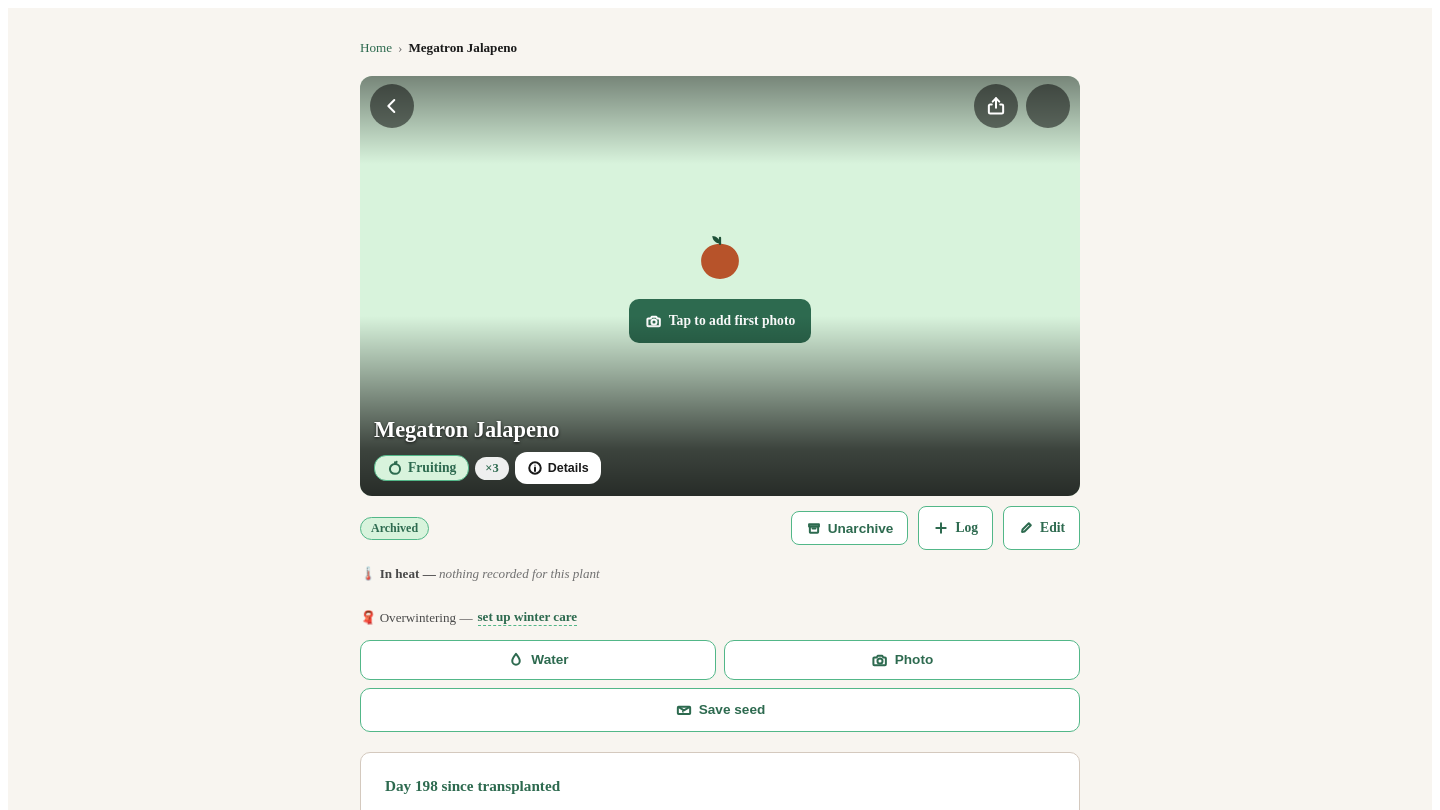
Test: PlantingDetail — V3-ARCHIVE-001 archived restore path › archived planting shows the Archived badge + Unarchive, and Unarchive PATCHes /archive {archived:false}
This screenshot has width=1440, height=810.
Expected: the heading "Megatron Jalapeno" is shown, x1=374 y1=417 x2=560 y2=442
Expected: the text "Archived" is shown, x1=360 y1=516 x2=429 y2=540
Click the button with aria-label "Unarchive this planting".
click(850, 528)  # box x1=791 y1=511 x2=908 y2=545
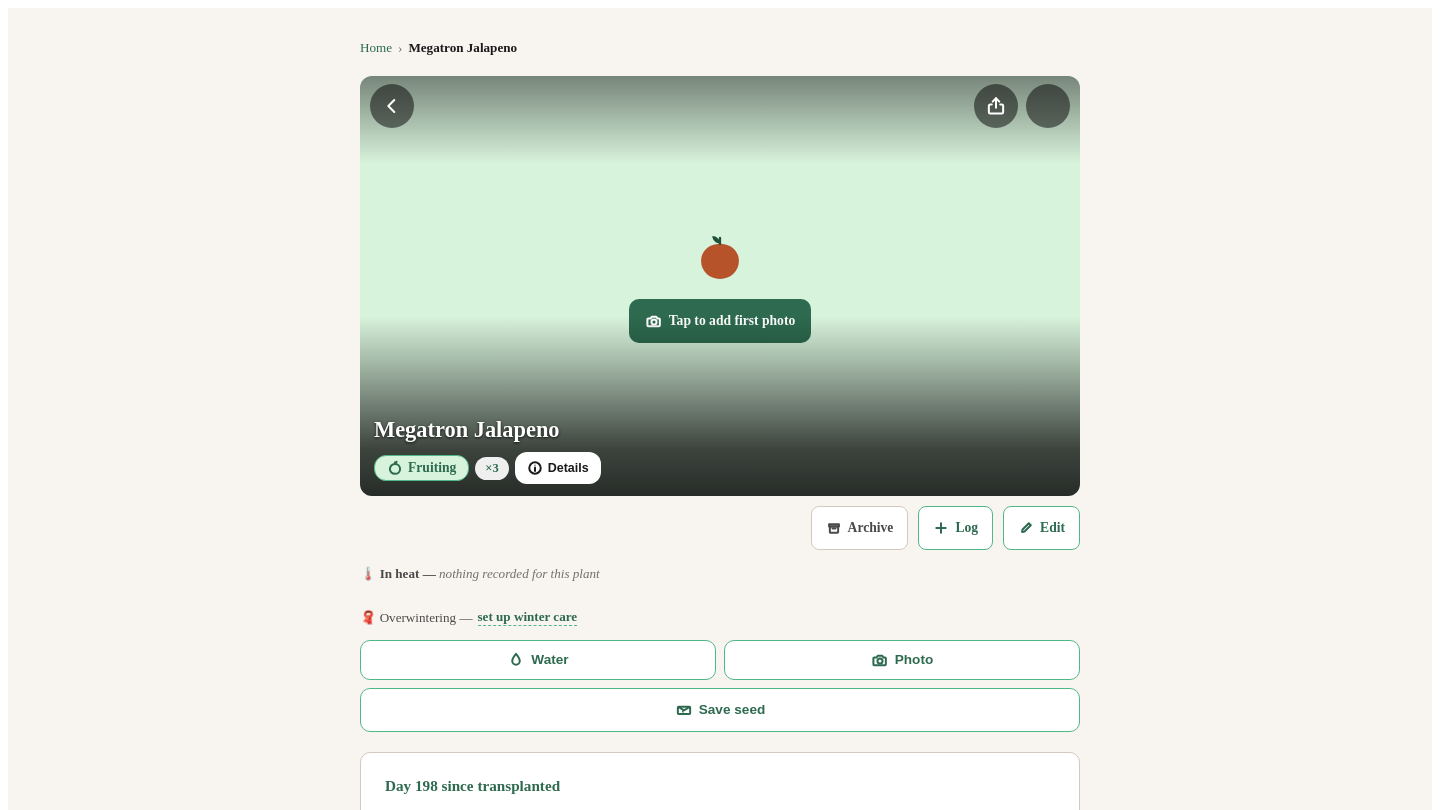
Result: the text "Archived" is gone
